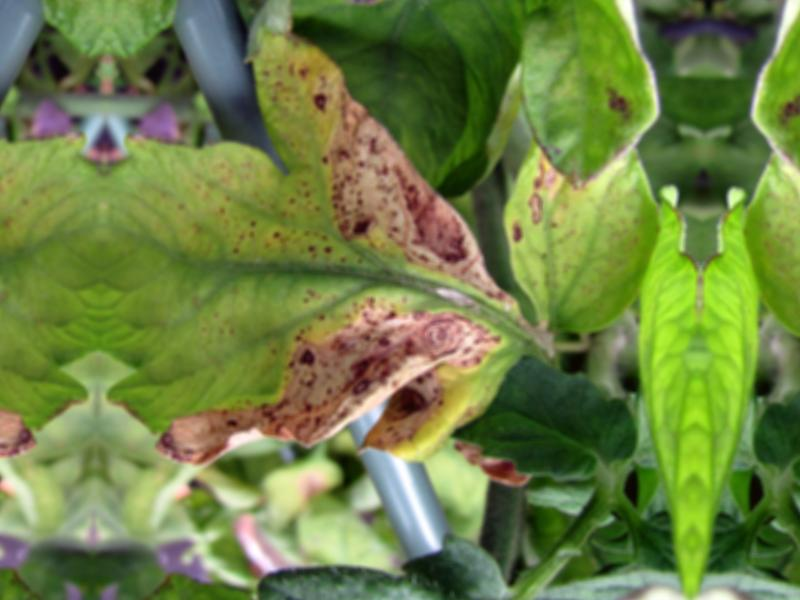Tomato Early blight leaf: (94, 49, 590, 496)
